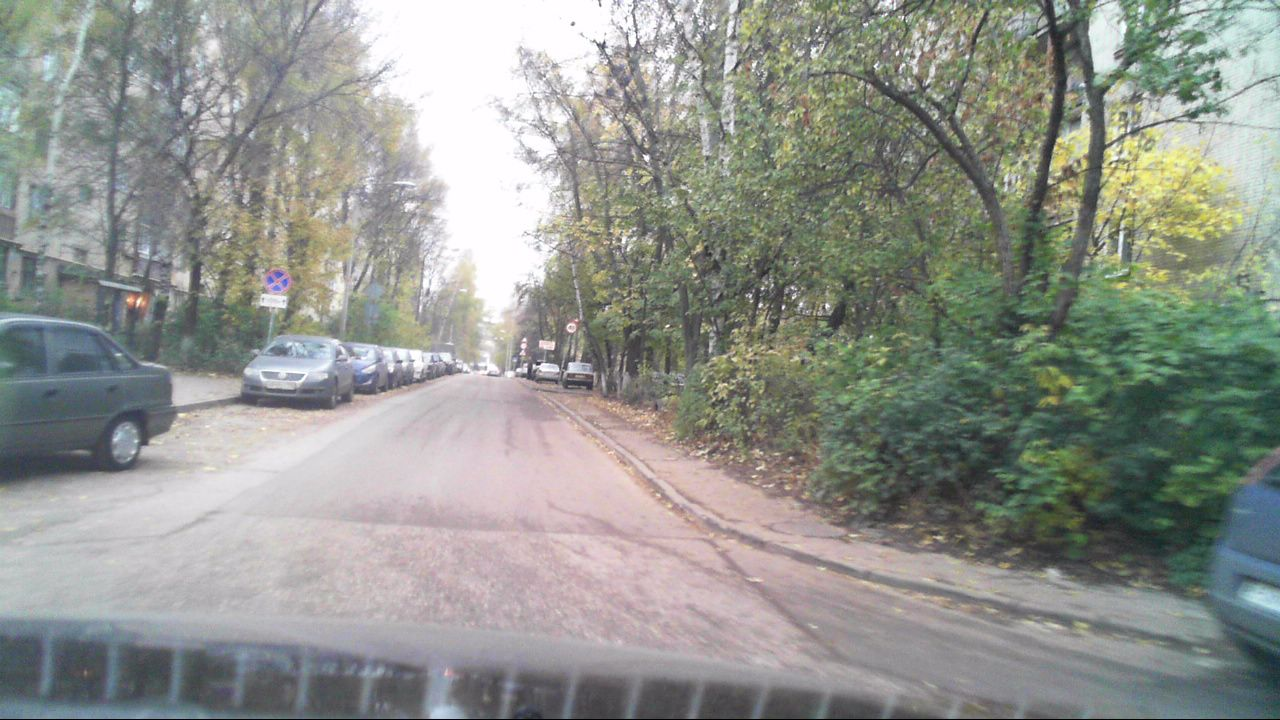No Parking: (262, 268, 290, 293)
